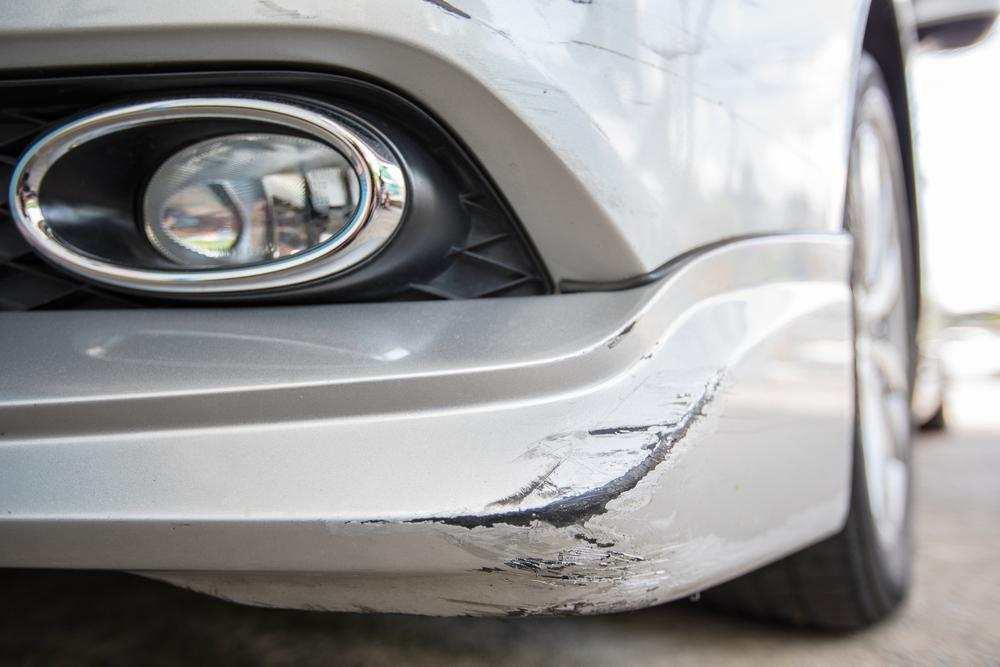scratch: (316, 355, 741, 617), (416, 0, 707, 124)
